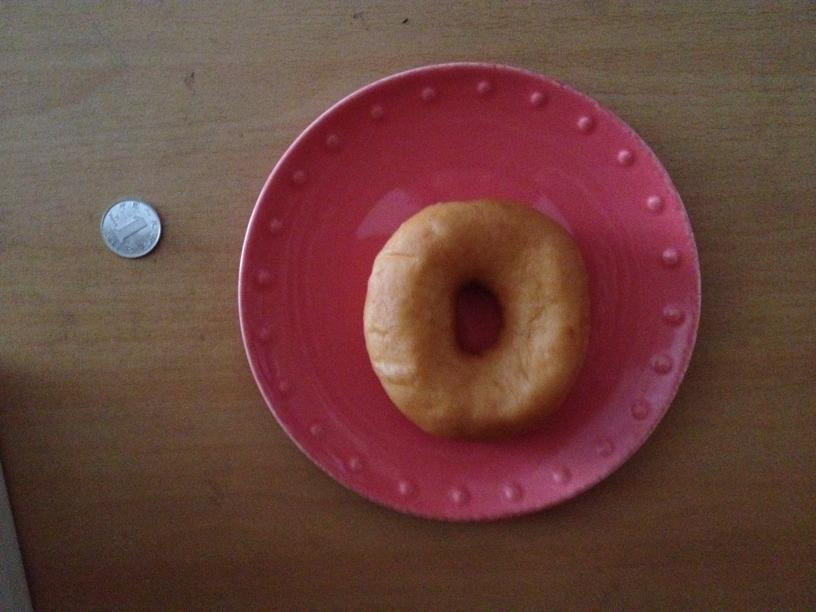coin: (98, 198, 162, 259)
doughnut: (358, 206, 586, 433)
